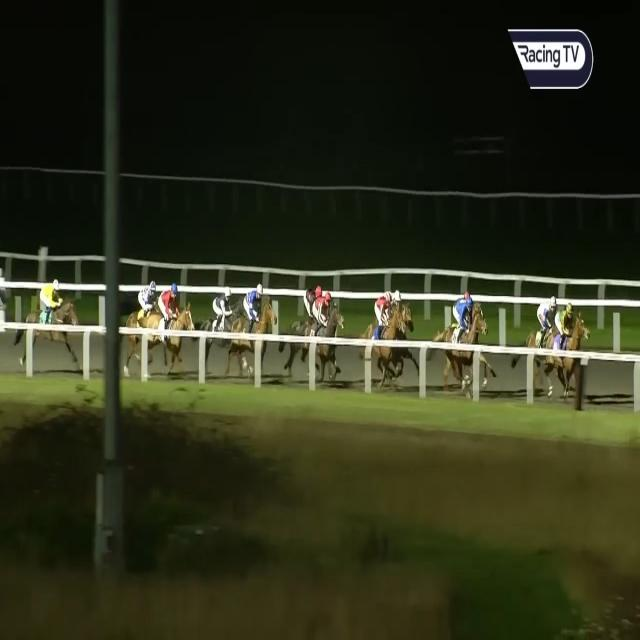horses-racing: (200, 280, 250, 378), (23, 275, 72, 373), (522, 291, 568, 392), (152, 283, 197, 379), (124, 278, 172, 367), (304, 291, 344, 394), (361, 292, 406, 374), (548, 302, 590, 388), (290, 276, 326, 361), (244, 282, 278, 370), (450, 301, 486, 384), (386, 284, 416, 353), (444, 289, 483, 328)
